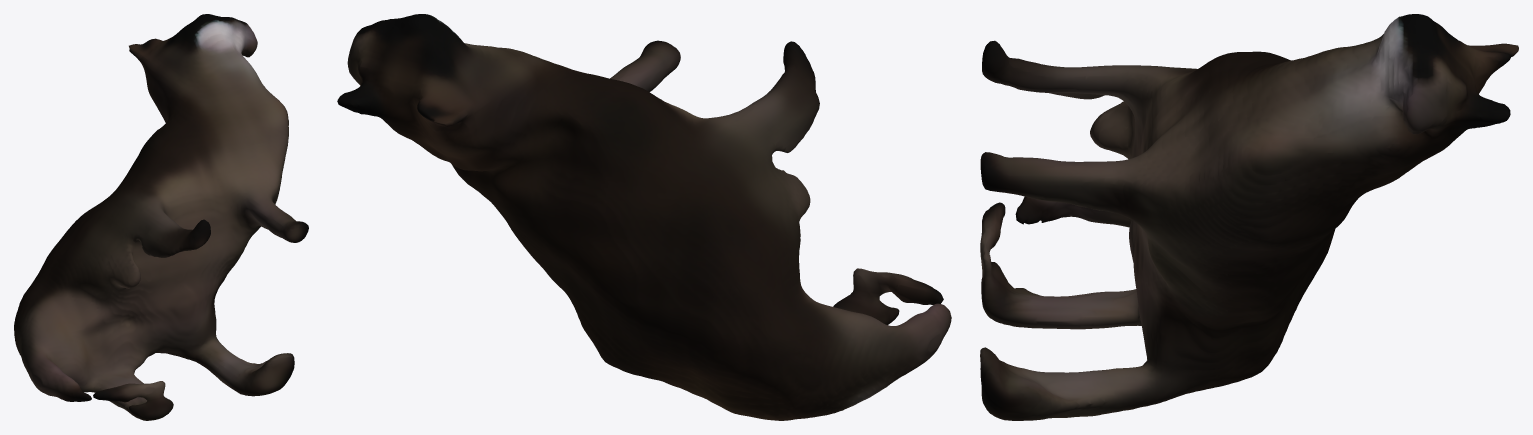
3 renders of one model, left to right at view 1: azimuth 30°, elevation 25°; view 2: azimuth 150°, elevation 25°; view 3: azimuth 270°, elevation 25°, orthographic. The views are drawn at different scales.
Parts seen in each view (by area): view 1: plyFile; view 2: plyFile; view 3: plyFile.
Part boxes in pixels (left/top/right/bottom): plyFile: left=14, top=14, right=308, bottom=420; plyFile: left=337, top=14, right=951, bottom=420; plyFile: left=980, top=14, right=1518, bottom=420.
Size of the model in its own units: 195 by 164 by 176.
